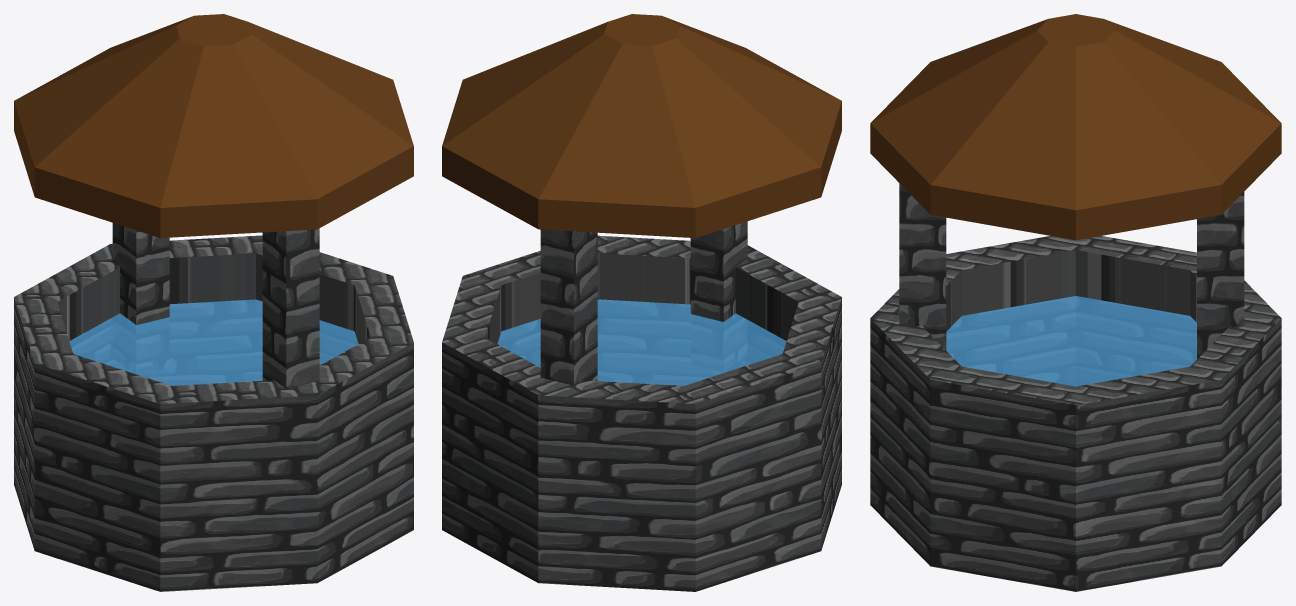
File: well.glb
The picture shows the model from 3 angles, left to right: view 1: azimuth 30°, elevation 25°; view 2: azimuth 150°, elevation 25°; view 3: azimuth 270°, elevation 25°; orthographic projection.
Parts seen in each view (by area): view 1: Cylinder, Cylinder.001; view 2: Cylinder, Cylinder.001; view 3: Cylinder, Cylinder.001.
Boxes of the visible parts, x1,y1,x2,y2 form: Cylinder: (14, 223, 413, 591); Cylinder.001: (14, 14, 413, 237); Cylinder: (442, 221, 841, 591); Cylinder.001: (442, 14, 841, 237); Cylinder: (870, 183, 1281, 591); Cylinder.001: (870, 14, 1281, 240).
Bounding box in the file's own units: 2 × 2.54 × 2.
3 materials, 1 textured.
